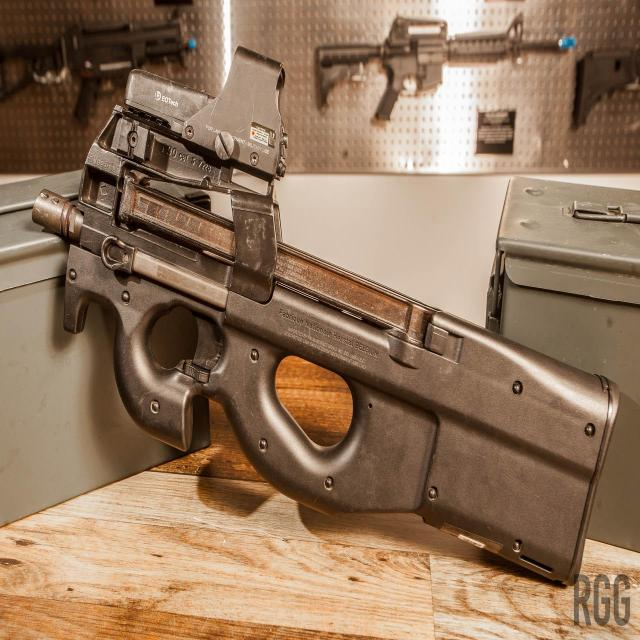Gun: (43, 70, 623, 599)
